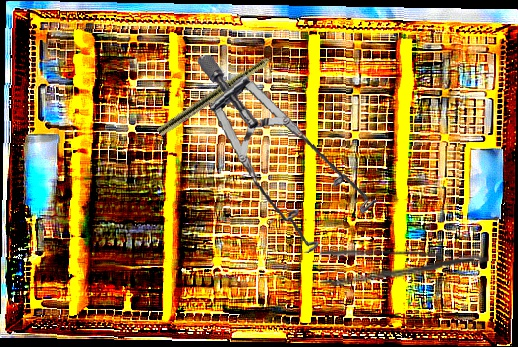Dressing Forceps: (318, 247, 490, 292)
Handpiece: (155, 41, 293, 139)
Speculum: (195, 38, 384, 263)
